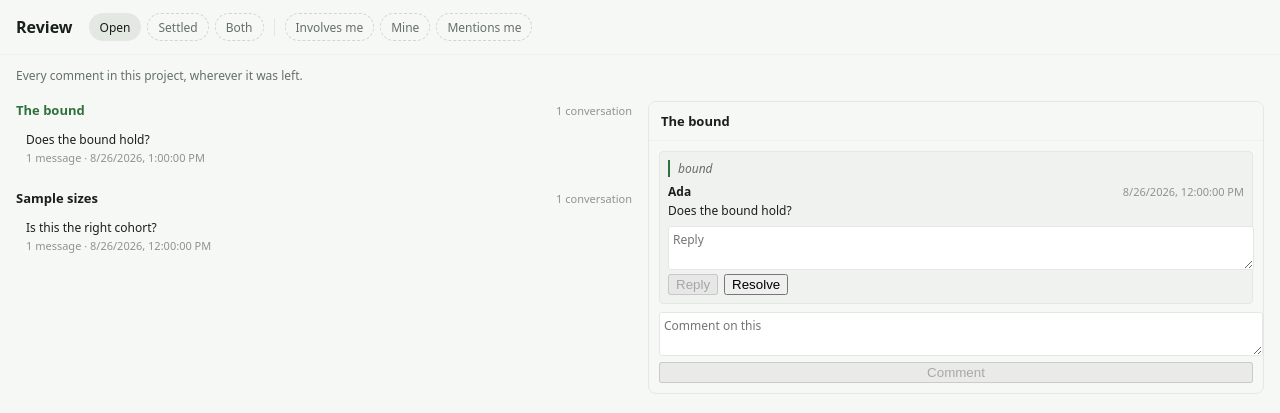
the Review page › shows the whole conversation on an item, not the part the filters matched
The image size is (1280, 413).
Click the button "Is this the right cohort? 1 message · 8/26/2026, 12:00:00 PM" at (91, 228), box [16,211,632,261]
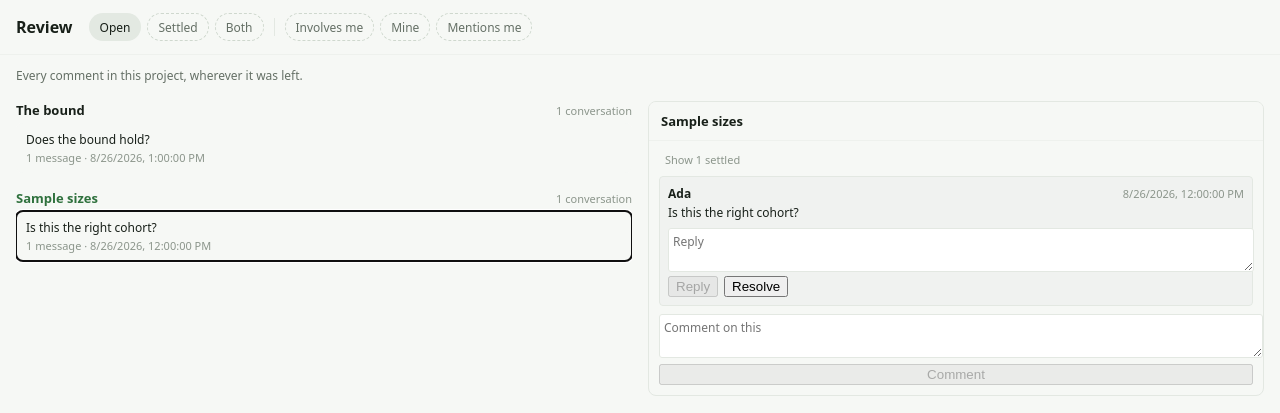
Expected: the button "Show 1 settled" is shown, [659,151,746,168]
